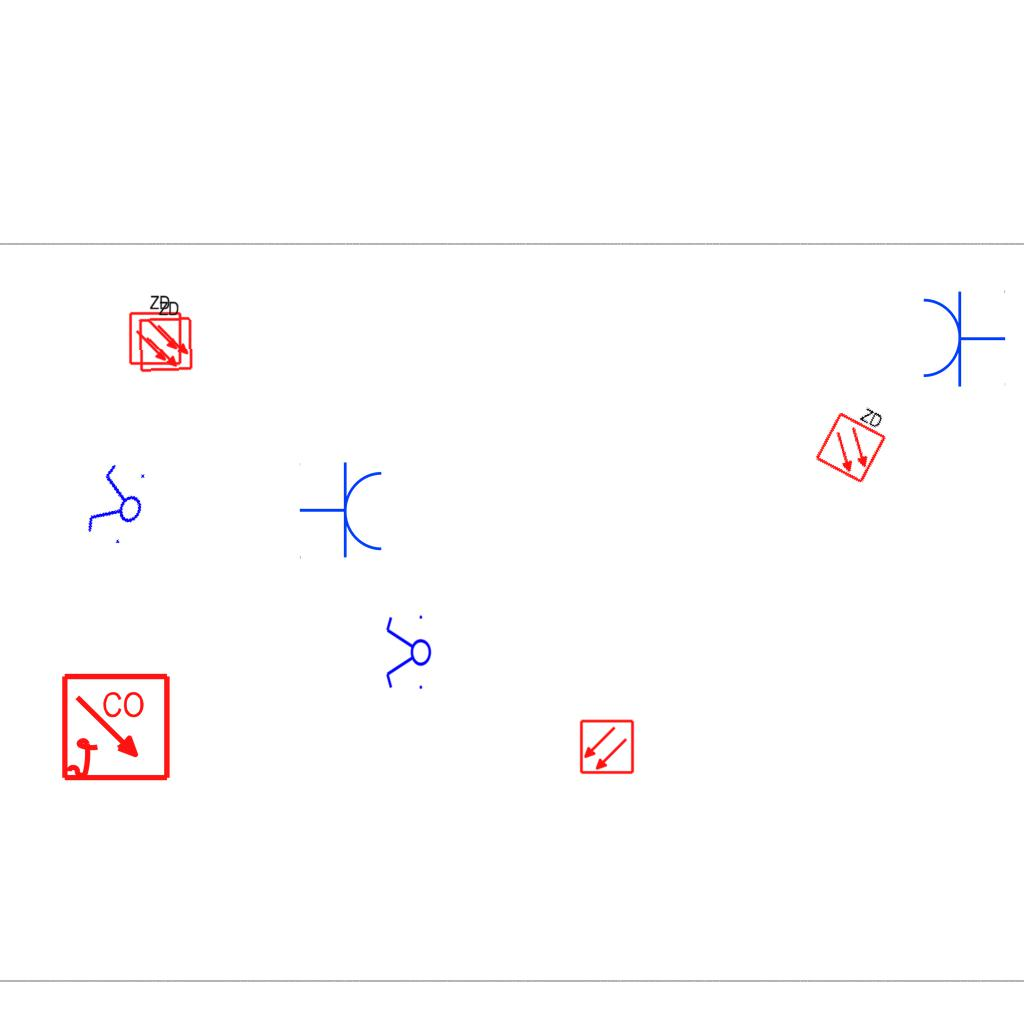RMO_Rauchmelder_optischer: (579, 719, 635, 775)
ROA_Rauchmelder_optisch_mit_Signalgeber_(Sockelsirene): (60, 672, 173, 785)
Schukosteckdose_einfach: (299, 461, 386, 561), (919, 288, 1006, 388)
Serienschalter: (80, 457, 156, 553), (384, 611, 432, 695)
ZD_Melder_in_Zwischendecke_mit_Revisionsoeffnung_mind_40_x_40_cm: (811, 392, 898, 486), (134, 297, 195, 373), (126, 292, 183, 366)
